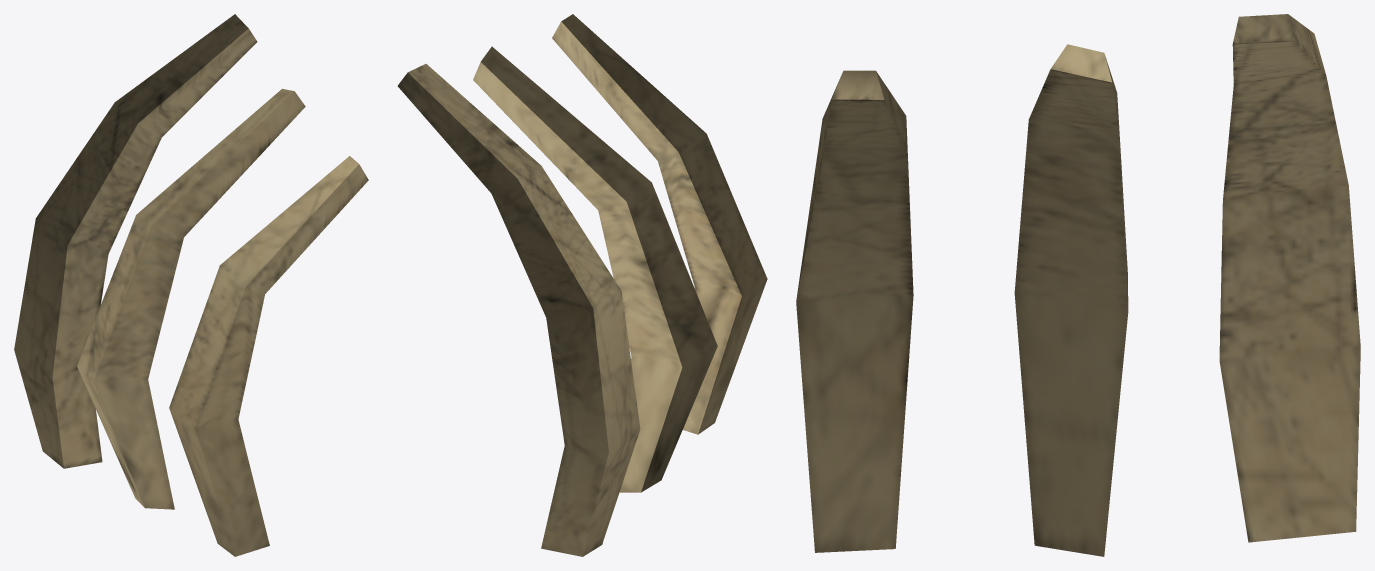
Rendered from Ribs.FBX.
The picture shows the model from 3 angles, left to right: view 1: azimuth 30°, elevation 25°; view 2: azimuth 150°, elevation 25°; view 3: azimuth 270°, elevation 25°; orthographic projection. The views are drawn at different scales.
Visible parts, largest first — view 1: Ribs_01; view 2: Ribs_01; view 3: Ribs_01.
Boxes of the visible parts, box(x1,y1,x2,y2) form: Ribs_01: box(14, 14, 368, 556); Ribs_01: box(397, 14, 767, 556); Ribs_01: box(796, 14, 1360, 556).
Bounding box in the file's own units: 6.32 × 10.95 × 8.67.
